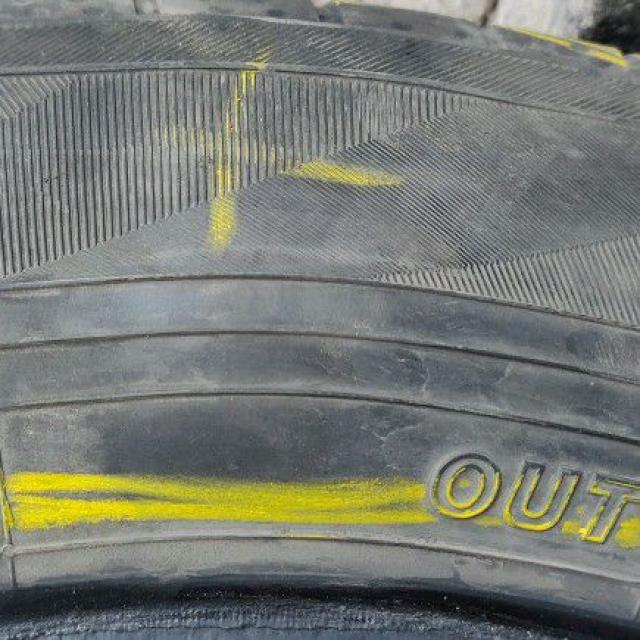Bulge: (91, 264, 407, 488)
